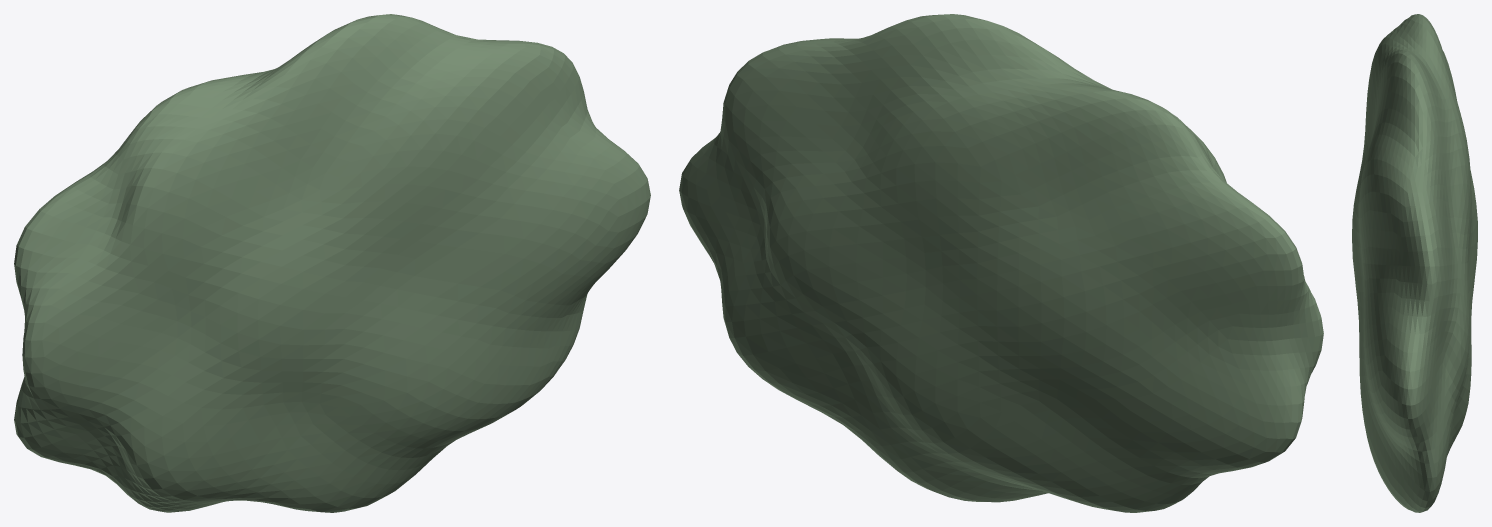
The model's file is Bana_Rainforest_Ridge.glb.
3 renders of one model, left to right at view 1: azimuth 30°, elevation 25°; view 2: azimuth 150°, elevation 25°; view 3: azimuth 270°, elevation 25°, orthographic. The views are drawn at different scales.
Visible parts, largest first — view 1: world; view 2: world; view 3: world.
Boxes of the visible parts, x1,y1,x2,y2 form: world: [14, 14, 650, 512]; world: [679, 14, 1323, 512]; world: [1352, 14, 1477, 512].
Size of the model in its own units: 14.53 by 10.6 by 2.79.
